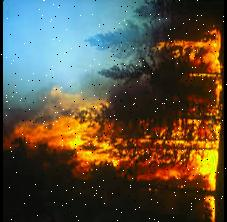fire: (7, 102, 224, 202), (150, 23, 224, 95)
